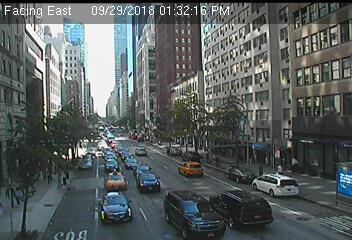car: (163, 191, 225, 240), (210, 191, 273, 231), (253, 174, 299, 197), (102, 192, 132, 222), (225, 167, 256, 184), (136, 171, 161, 192), (104, 171, 127, 191), (179, 161, 204, 178), (133, 164, 151, 177), (182, 151, 201, 163), (104, 159, 120, 173), (124, 158, 140, 170), (79, 158, 93, 171), (167, 147, 181, 156), (135, 147, 146, 157)
